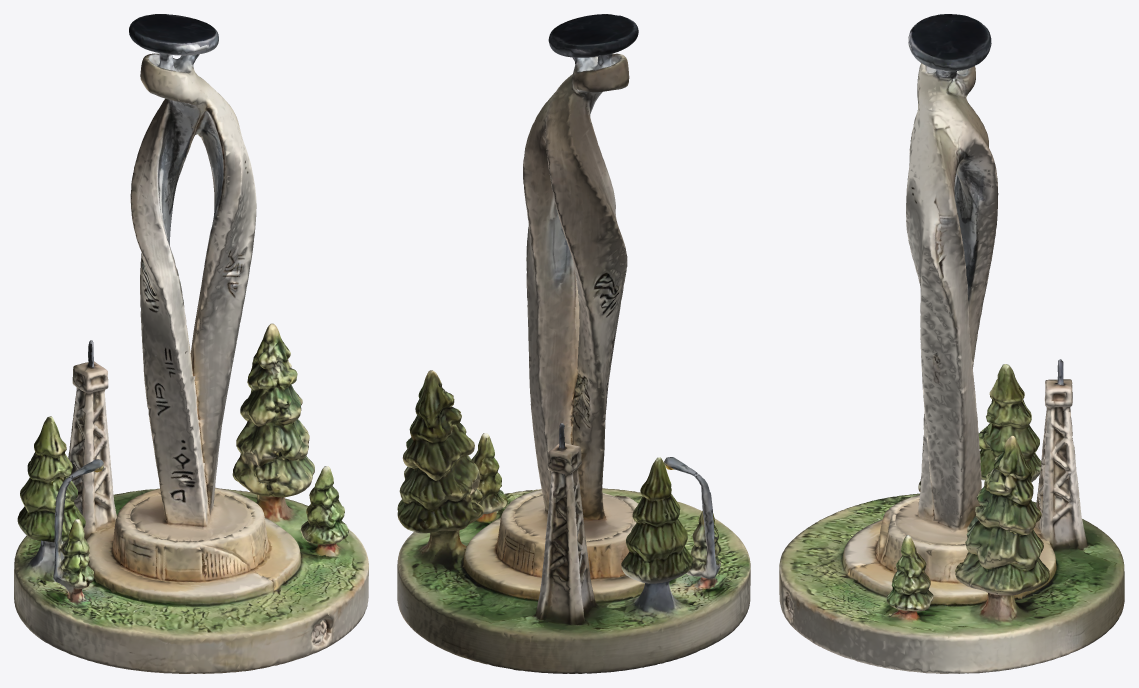
Rendered from virgen.glb.
3 views of the same model, side by side, from view 1: azimuth 30°, elevation 25°; view 2: azimuth 150°, elevation 25°; view 3: azimuth 270°, elevation 25° (orthographic). The views are drawn at different scales.
Visible parts, largest first — view 1: model; view 2: model; view 3: model.
Boxes of the visible parts, left/top/right/bottom form: model: left=14, top=14, right=368, bottom=673; model: left=397, top=14, right=750, bottom=673; model: left=779, top=14, right=1124, bottom=673.
Size of the model in its own units: 1.05 by 1.9 by 1.06.
1 material, 1 textured.
